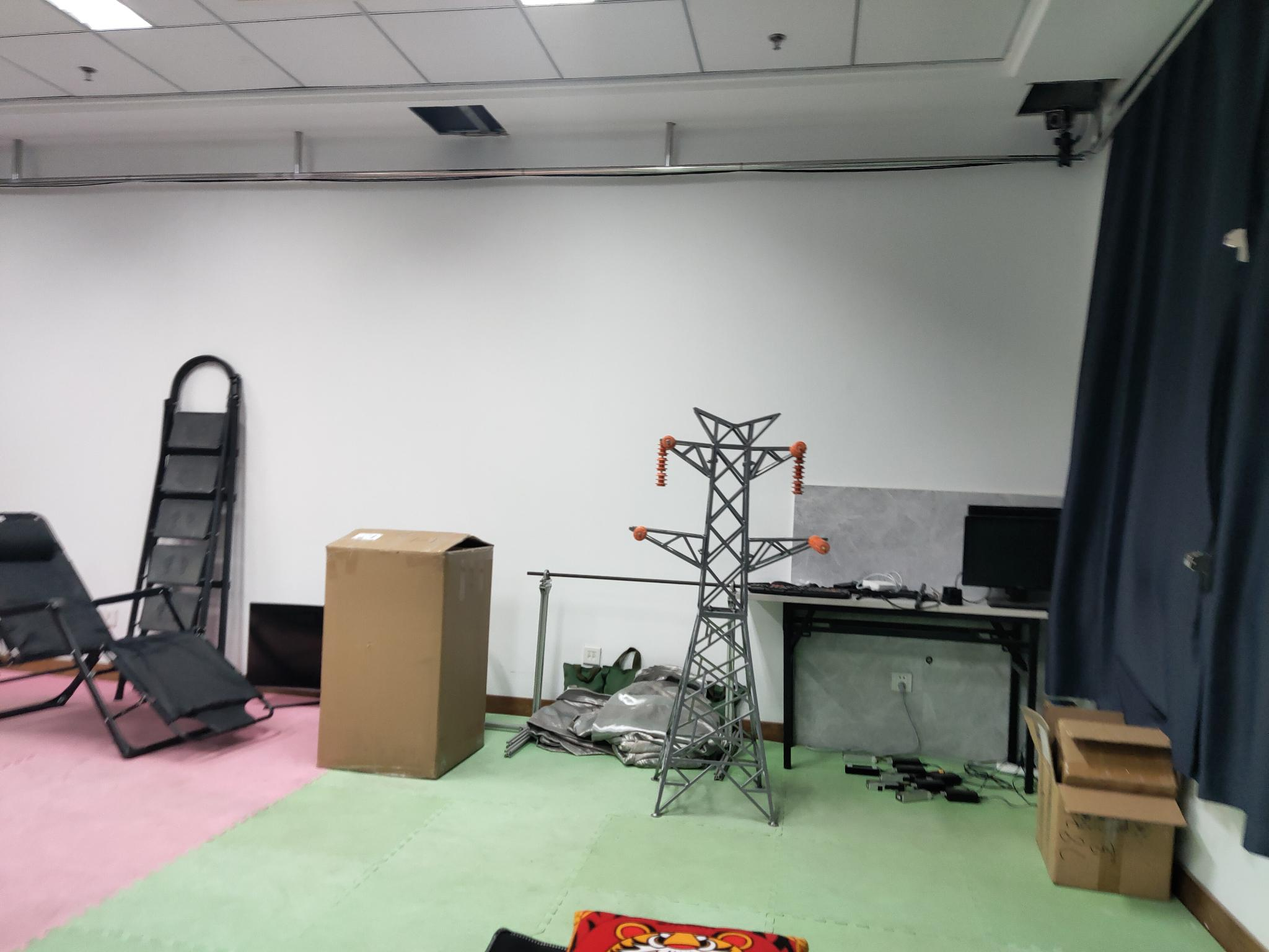tower: (632, 406, 826, 833)
